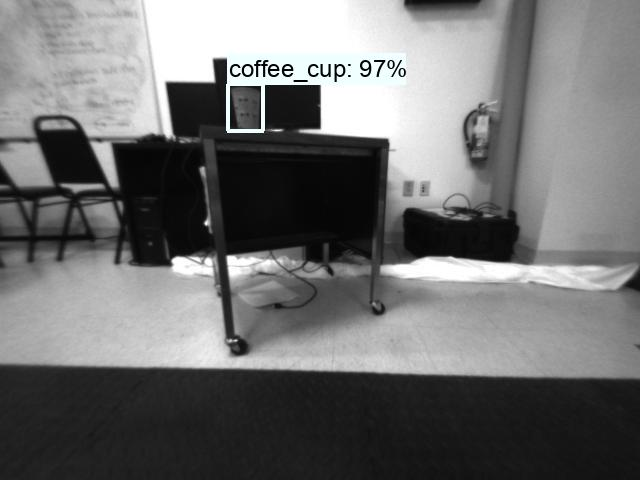coffee_cup: (229, 85, 264, 132)
